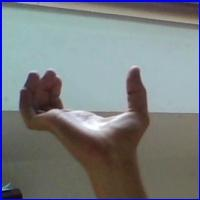B: (16, 59, 169, 166)
